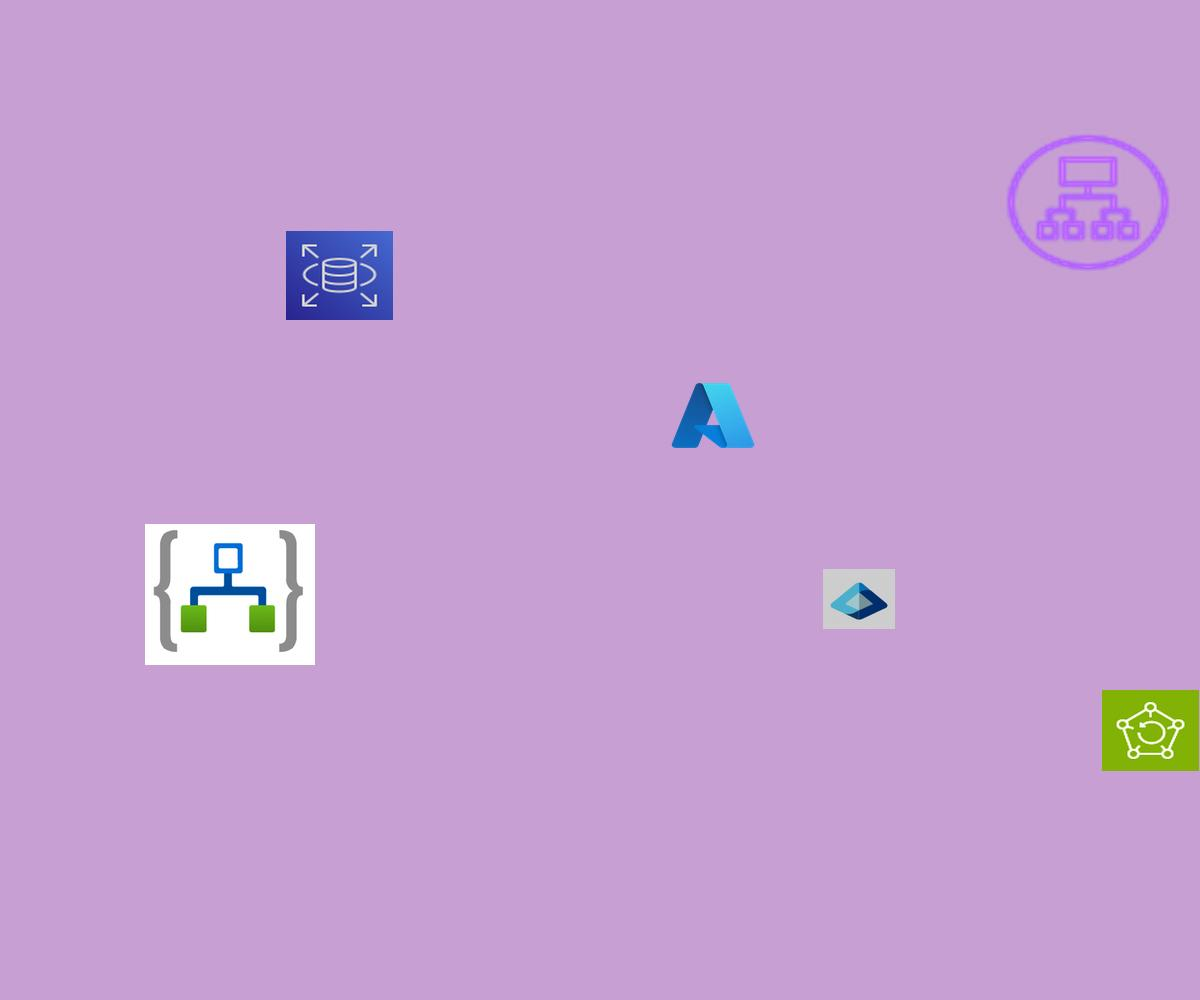AWS-Backup: (1102, 690, 1199, 771)
AWS-RDS: (286, 231, 393, 320)
AWS-Res_Elastic-Load-Balancing_Application-Load-Balancer: (1000, 129, 1176, 276)
Azure_integration-204-Logic-Apps: (145, 524, 315, 665)
Azure_microsoft_entra: (823, 569, 895, 629)
Azure_services: (668, 378, 758, 453)
